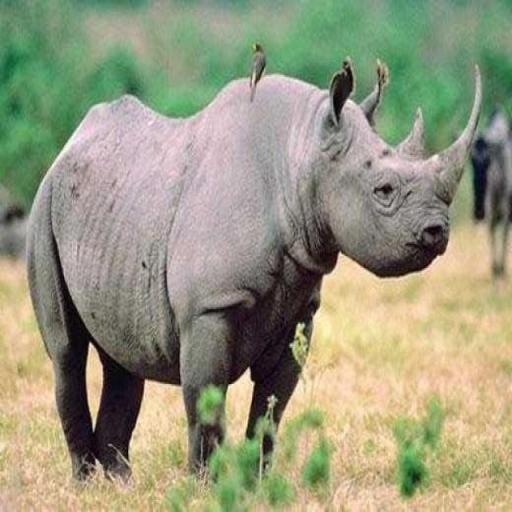Rhino: (24, 55, 482, 488)
